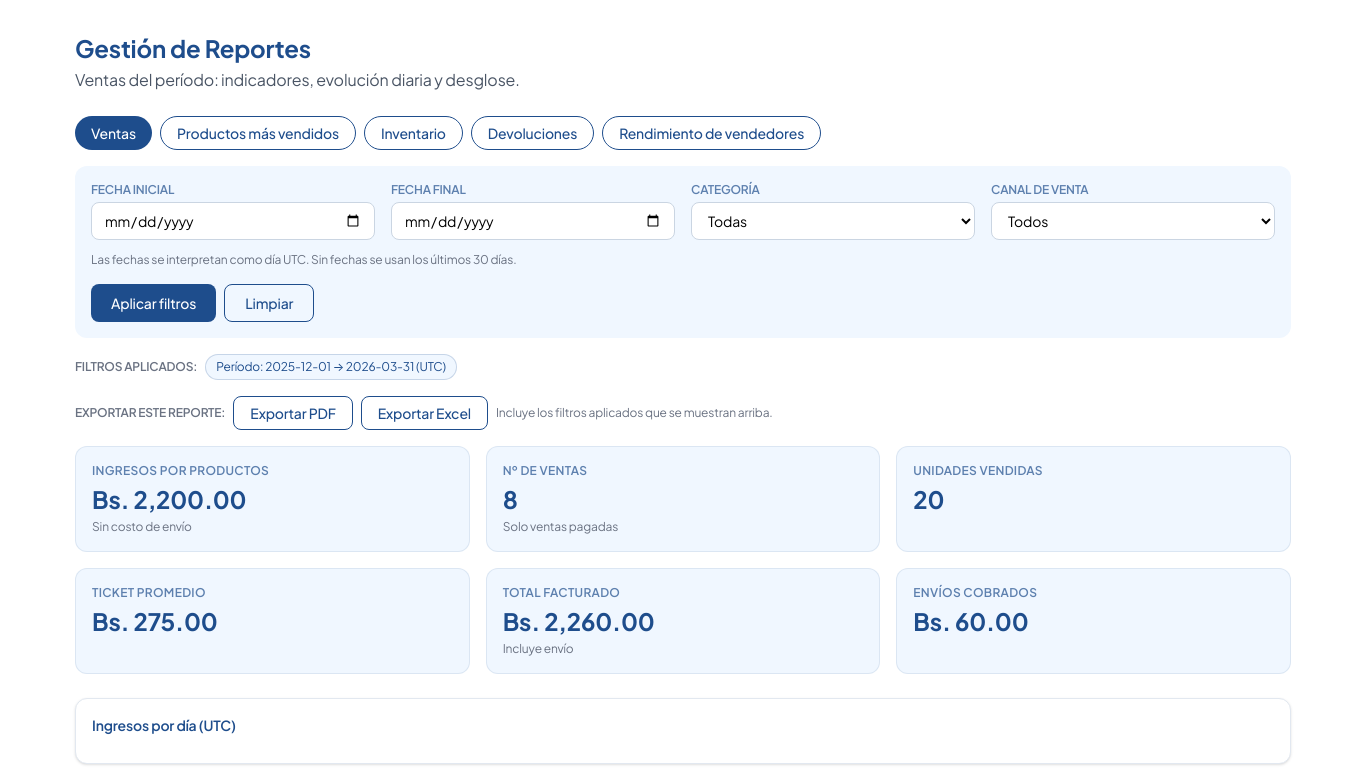
Scenario: ReportesComponent › exportación PDF / Excel › mientras genera deshabilita ambos botones, muestra el progreso y ignora el segundo clic
The image size is (1366, 768).
Click the button with test id "btn-exportar-pdf" at (293, 413), box [233, 396, 353, 430]
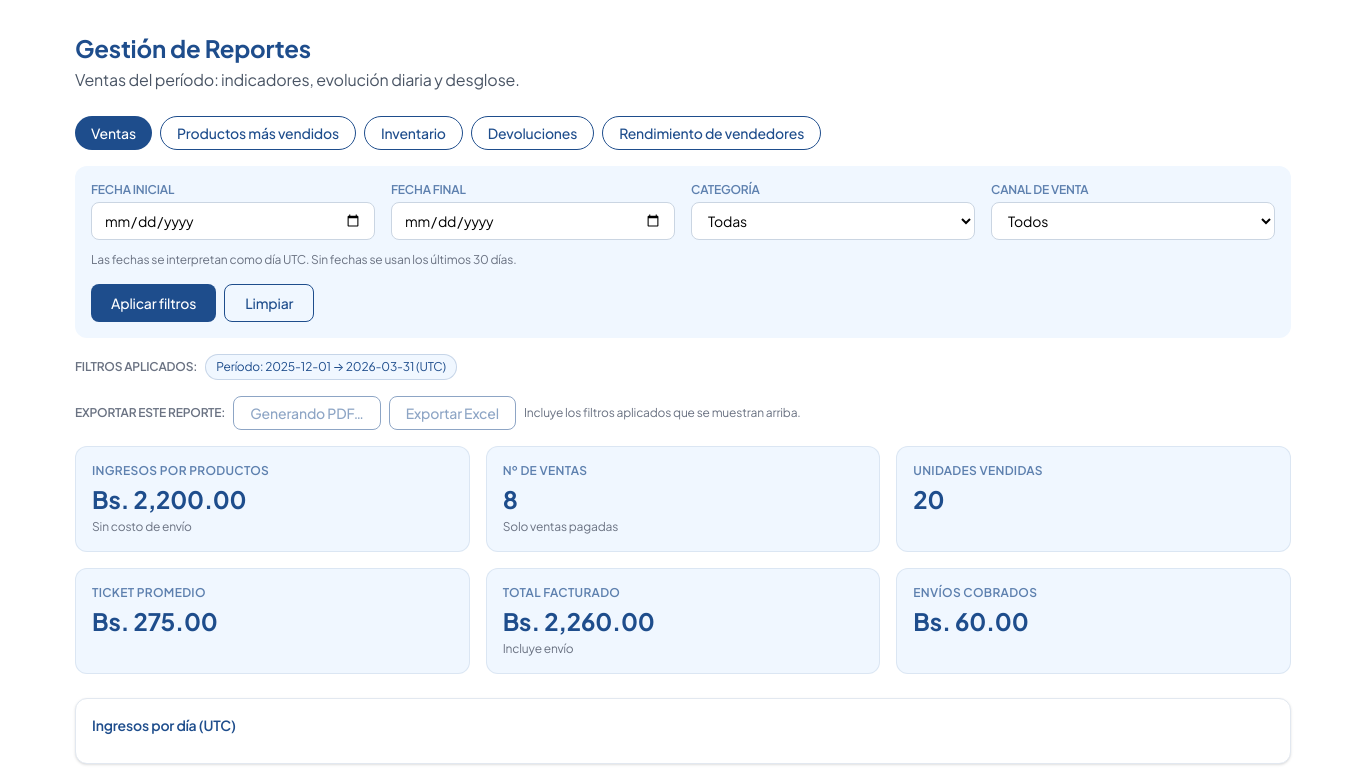
Expected: the button with test id "btn-exportar-pdf" is disabled, [233, 396, 381, 430]
Expected: the button with test id "btn-exportar-pdf" shows "Generando PDF", [233, 396, 381, 430]
Click the button "Exportar Excel" at (452, 413), box [389, 396, 516, 430]
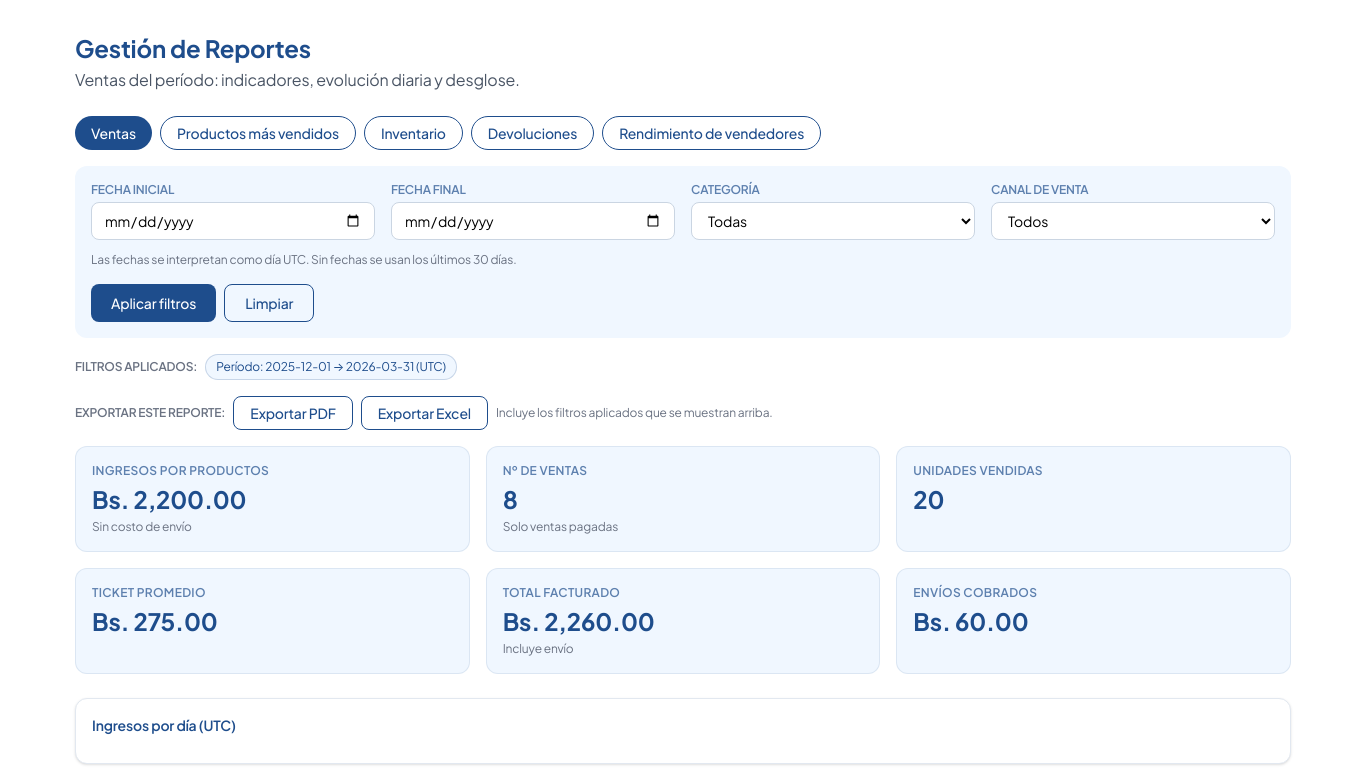
Expected: the button with test id "btn-exportar-pdf" is enabled, [233, 396, 353, 430]
Expected: the button with test id "btn-exportar-pdf" reads "Exportar PDF", [233, 396, 353, 430]
